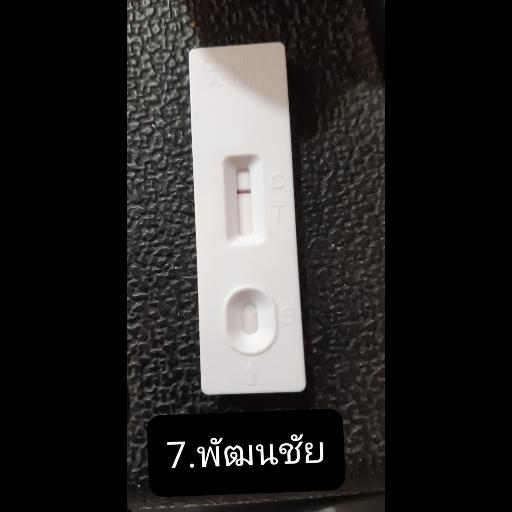Neg: (190, 39, 307, 396)
